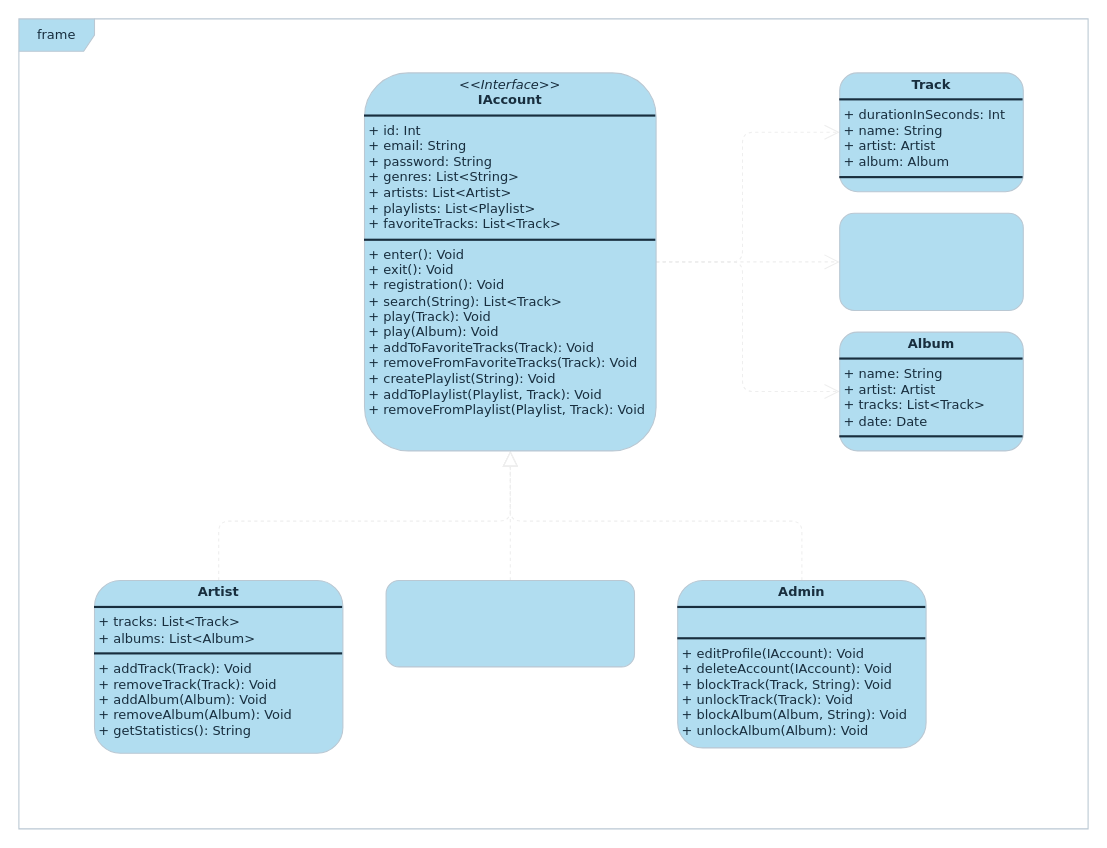
This 1107x848 diagram has some shape labels left out. The shapes that lost their labels are listed below. From the top down, each one's centre as x and y in pixels, then its label:
At point (931, 261): "Playlist + name: String + durationInSeconds: Int + tracks: List<Track>".
At point (509, 623): "User".
